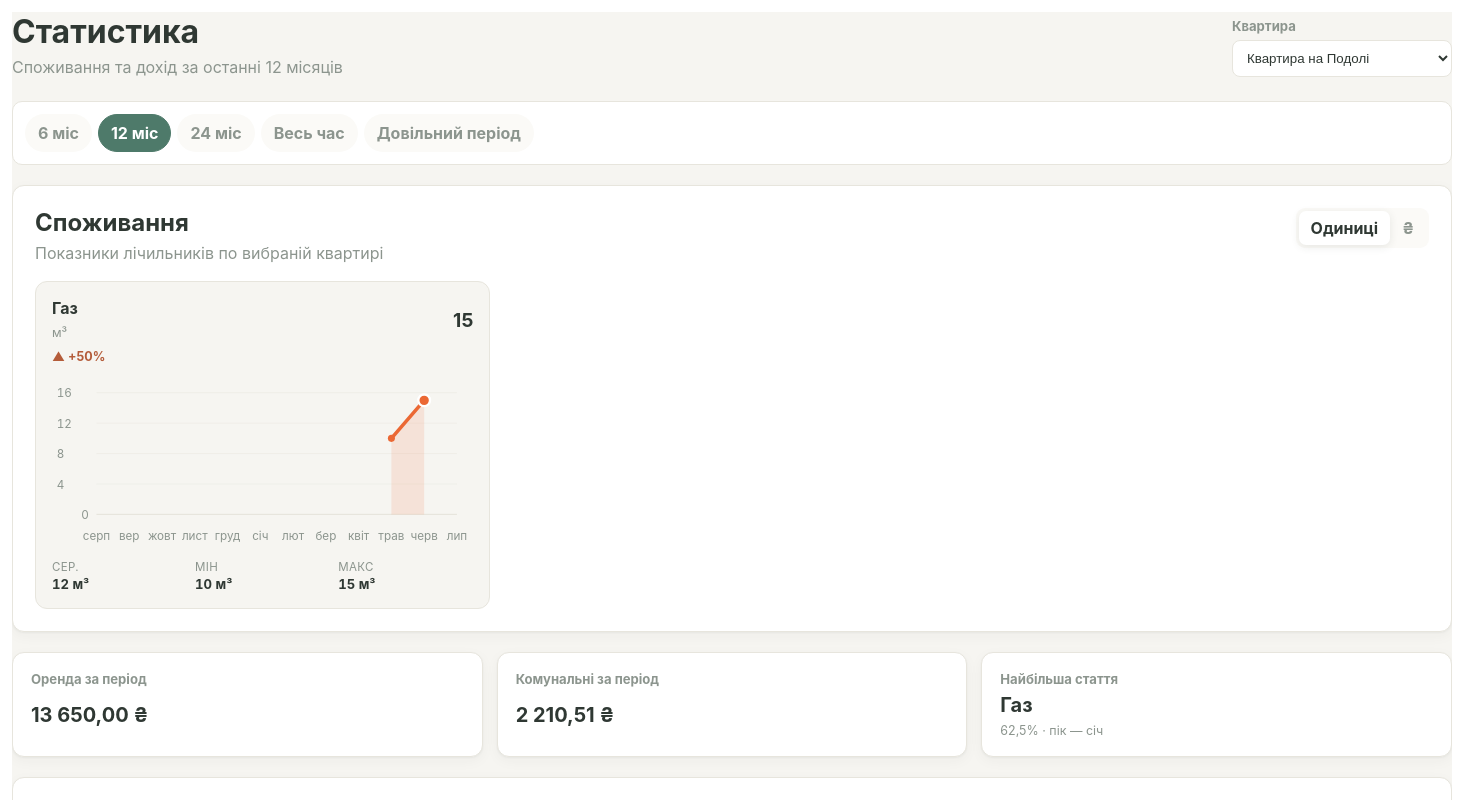
it: Stats › switches the consumption display between units and hryvnia
The image size is (1464, 800).
Expected: the text "м³" is shown, [52,325,67,340]
Expected: the text "15" is shown, [453,308,473,332]
Click the button "₴". click: [1408, 228]
box: [1390,211,1426,245]
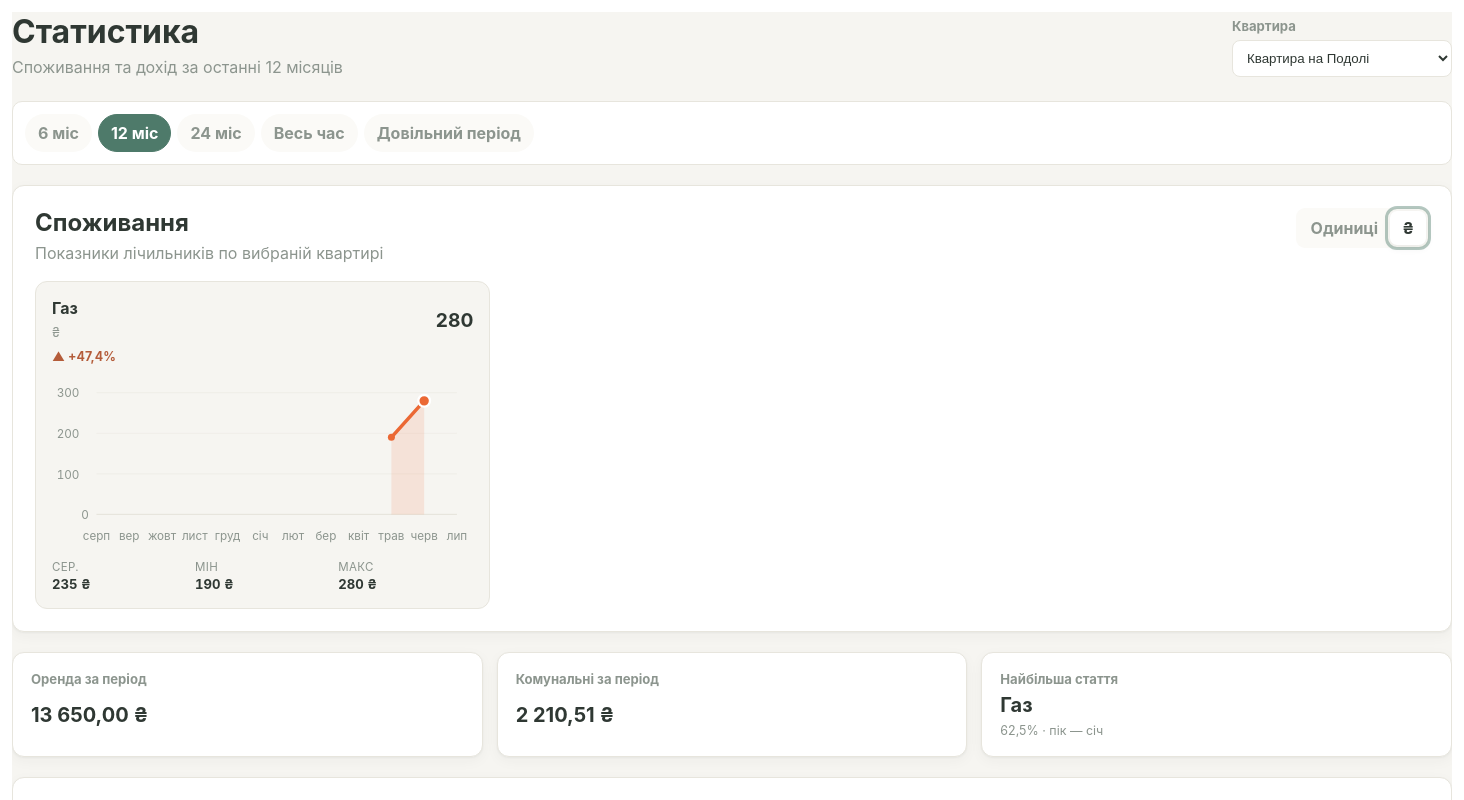
Result: the text "₴" is shown at [52,325,60,340]
Result: the text "280" is shown at [436,308,473,332]
Result: the element named "Зведення споживання: Газ" shows "235 ₴" at [52,576,91,592]
